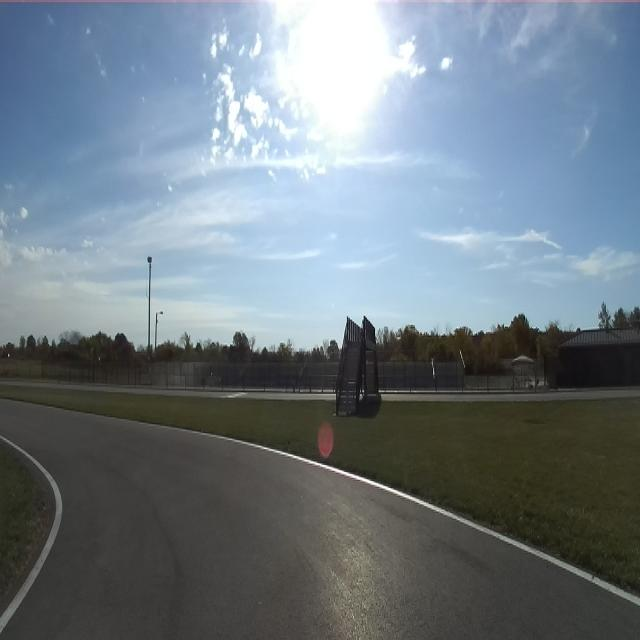white-line: (97, 415, 640, 607), (0, 436, 62, 633)
